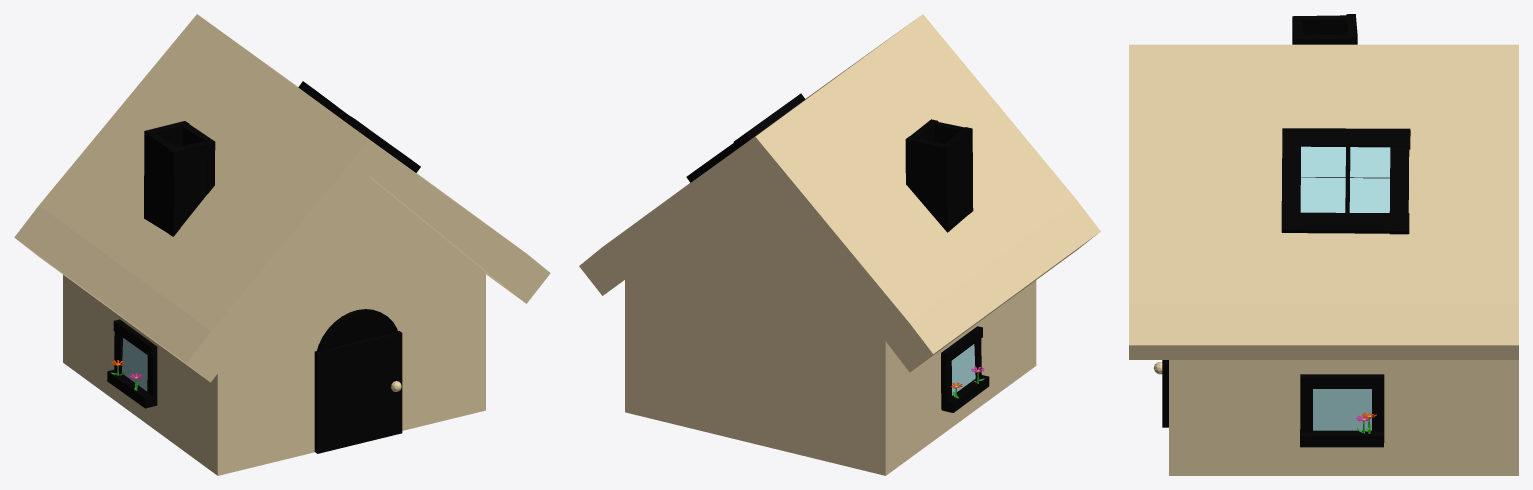
3 views of the same model, side by side, from view 1: azimuth 30°, elevation 25°; view 2: azimuth 150°, elevation 25°; view 3: azimuth 270°, elevation 25° (orthographic). The views are drawn at different scales.
Visible parts, largest first — view 1: Cube.053; view 2: Cube.053; view 3: Cube.053.
Part boxes in pixels (x1,y1,x2,y2): Cube.053: (14,14,550,475); Cube.053: (579,14,1100,475); Cube.053: (1129,14,1518,475).
Size of the model in its own units: 47.49 by 39.38 by 38.92.
